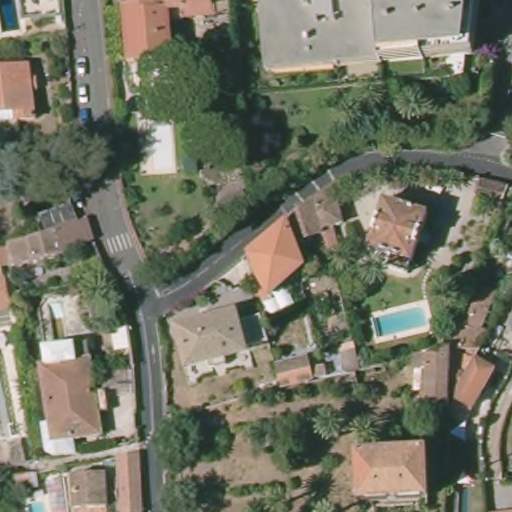pool: (373, 306, 434, 339), (1, 1, 21, 36), (27, 494, 48, 512)
